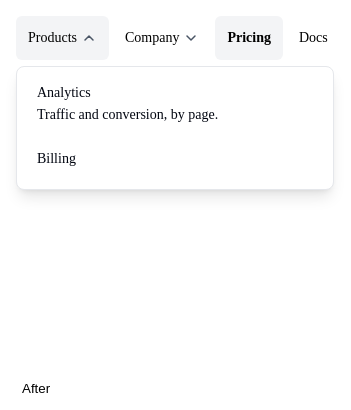
pointer › moving to another button swaps what the panel shows
Check: the link "Analytics Traffic and conversion, by page." is shown, box [37, 85, 218, 122]
Hover over the button "Company" at (162, 38), box [113, 16, 212, 60]
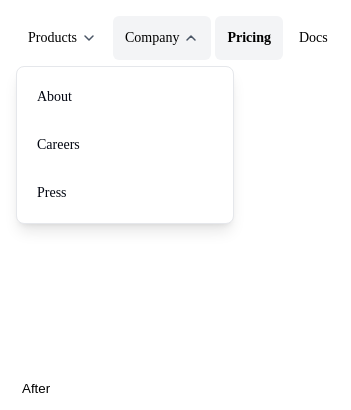
Check: the number of elements with class "nuv-navigation-menu__viewport" is 1, box [16, 66, 234, 224]
Check: the link "Careers" is shown, box [37, 137, 80, 152]
